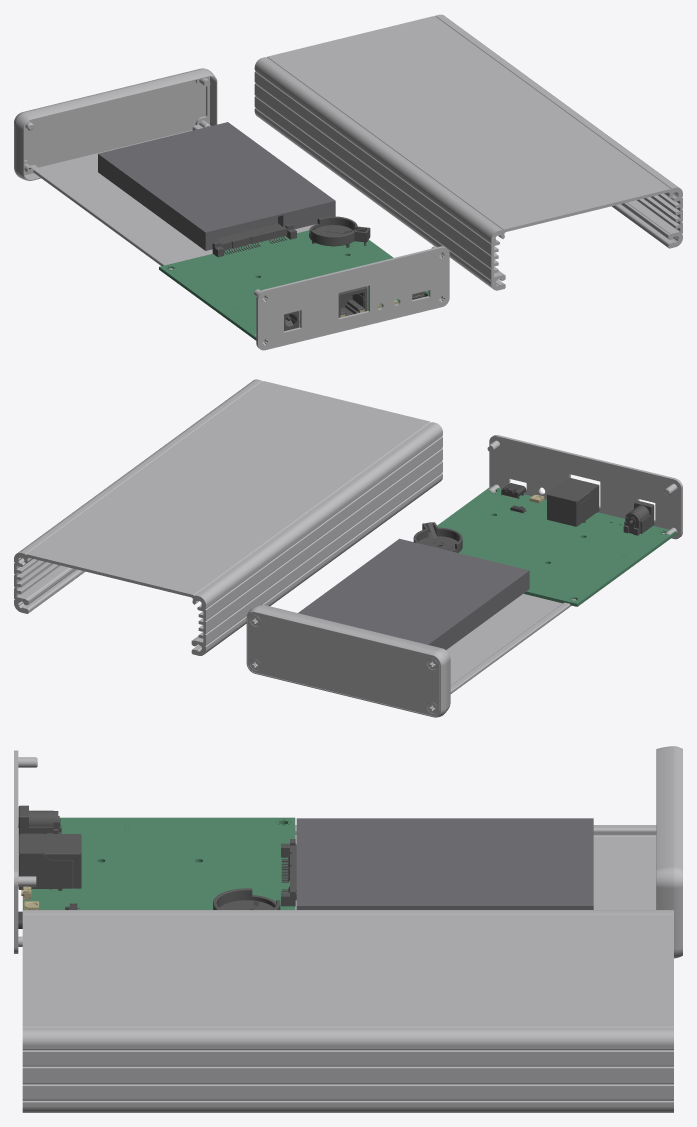
File: assembly-slim.glb
3 views of the same model, one above another, from view 1: azimuth 30°, elevation 25°; view 2: azimuth 150°, elevation 25°; view 3: azimuth 270°, elevation 25° (orthographic). The views are drawn at different scales.
Parts seen in each view (by area): view 1: Lid, Case, HDD, EndPlate, PCB_Board, PCB_Conn; view 2: Lid, Case, HDD, PCB_Board, EndPlate, PCB_Conn; view 3: Lid, HDD, PCB_Board, Case, PCB_Conn, EndPlate.
Boxes of the visible parts, x1,y1,x2,y2 form: Lid: (254,14,682,290); Case: (14,68,446,345); HDD: (98,122,335,250); EndPlate: (256,246,449,350); PCB_Board: (159,230,428,340); PCB_Conn: (212,216,370,331); Lid: (14,379,442,655); Case: (246,440,677,717); HDD: (298,538,529,649); PCB_Board: (437,486,676,606); EndPlate: (489,435,682,539); PCB_Conn: (413,478,654,552); Lid: (22,910,673,1112); HDD: (296,818,593,909); PCB_Board: (23,817,295,909); Case: (18,746,682,958); PCB_Conn: (18,805,296,909); EndPlate: (14,750,18,953).
Bounding box in the file's own units: 0.2316 × 0.0336 × 0.2259.
